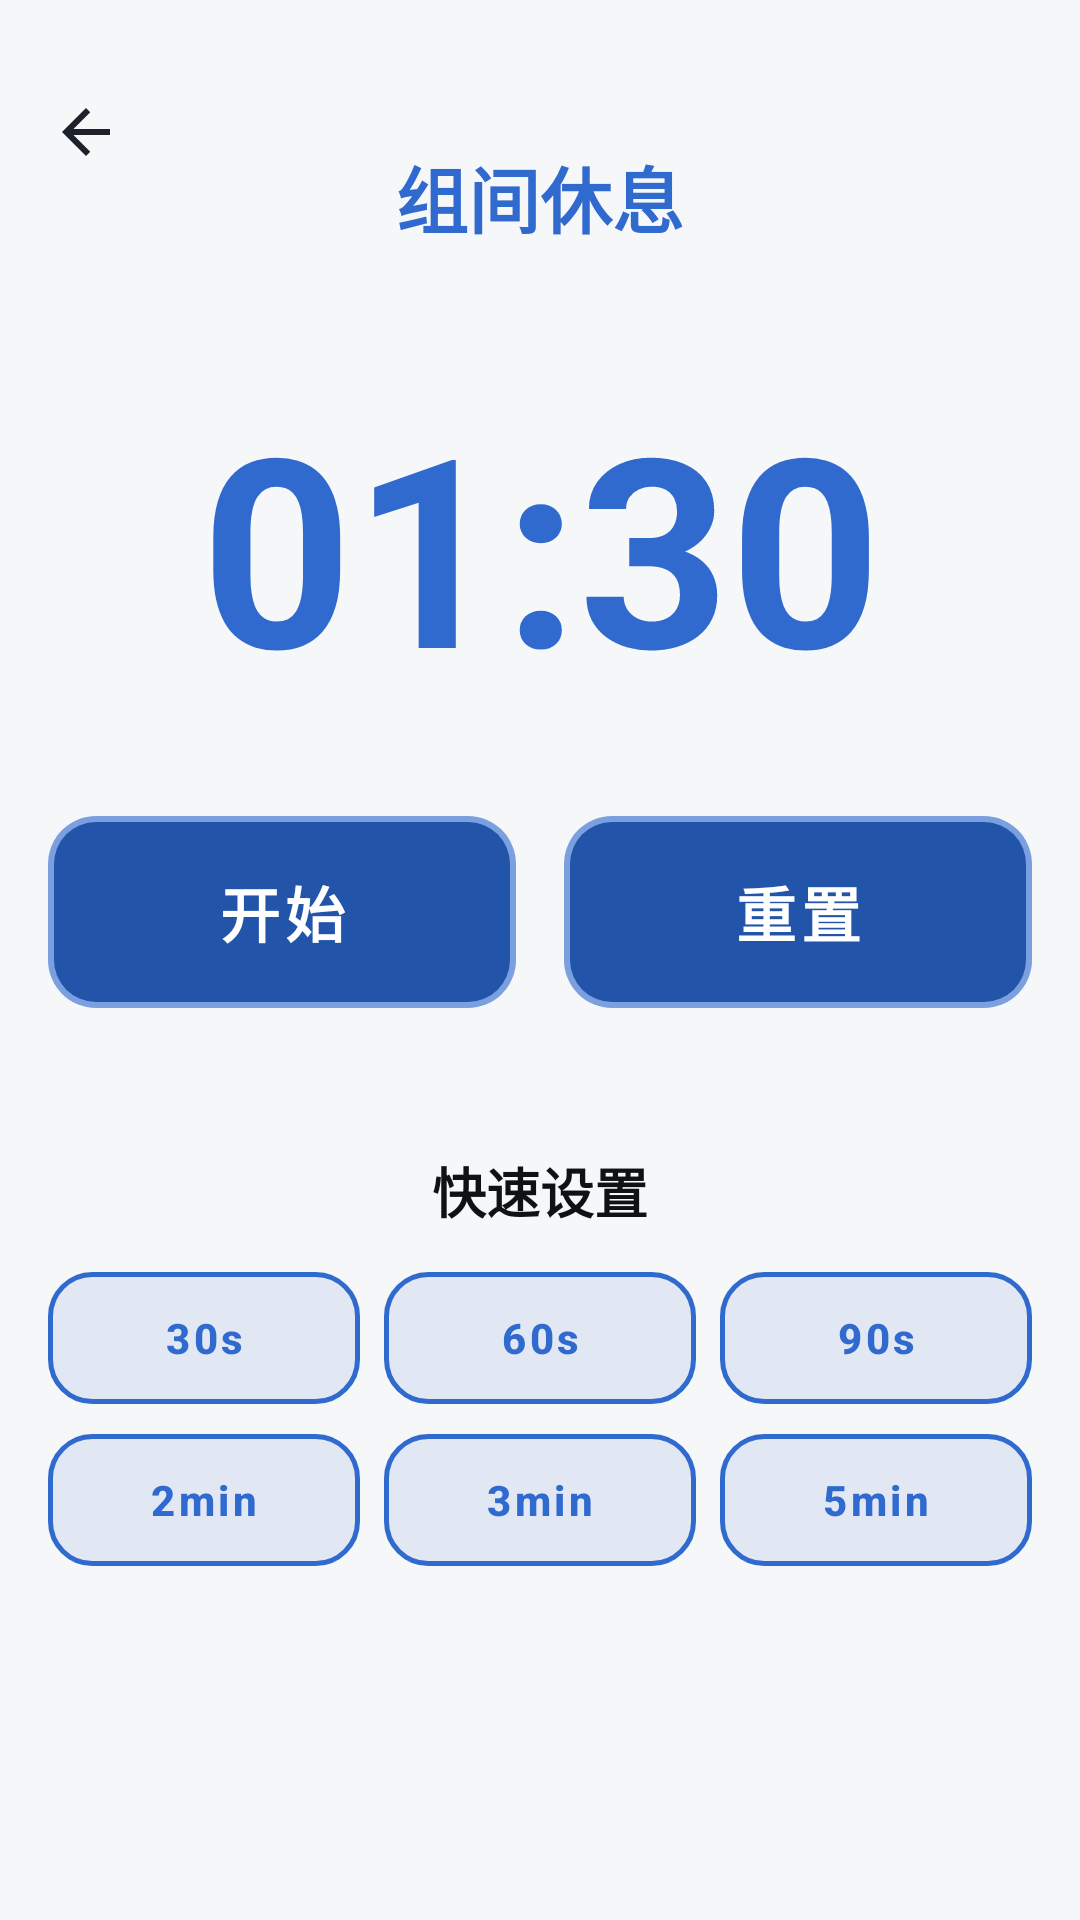

Named icons in this screenshot (1080 × 1920) and their bounding boxes, (x1, y1, x2, y2):
返回: (62, 108, 110, 156)
